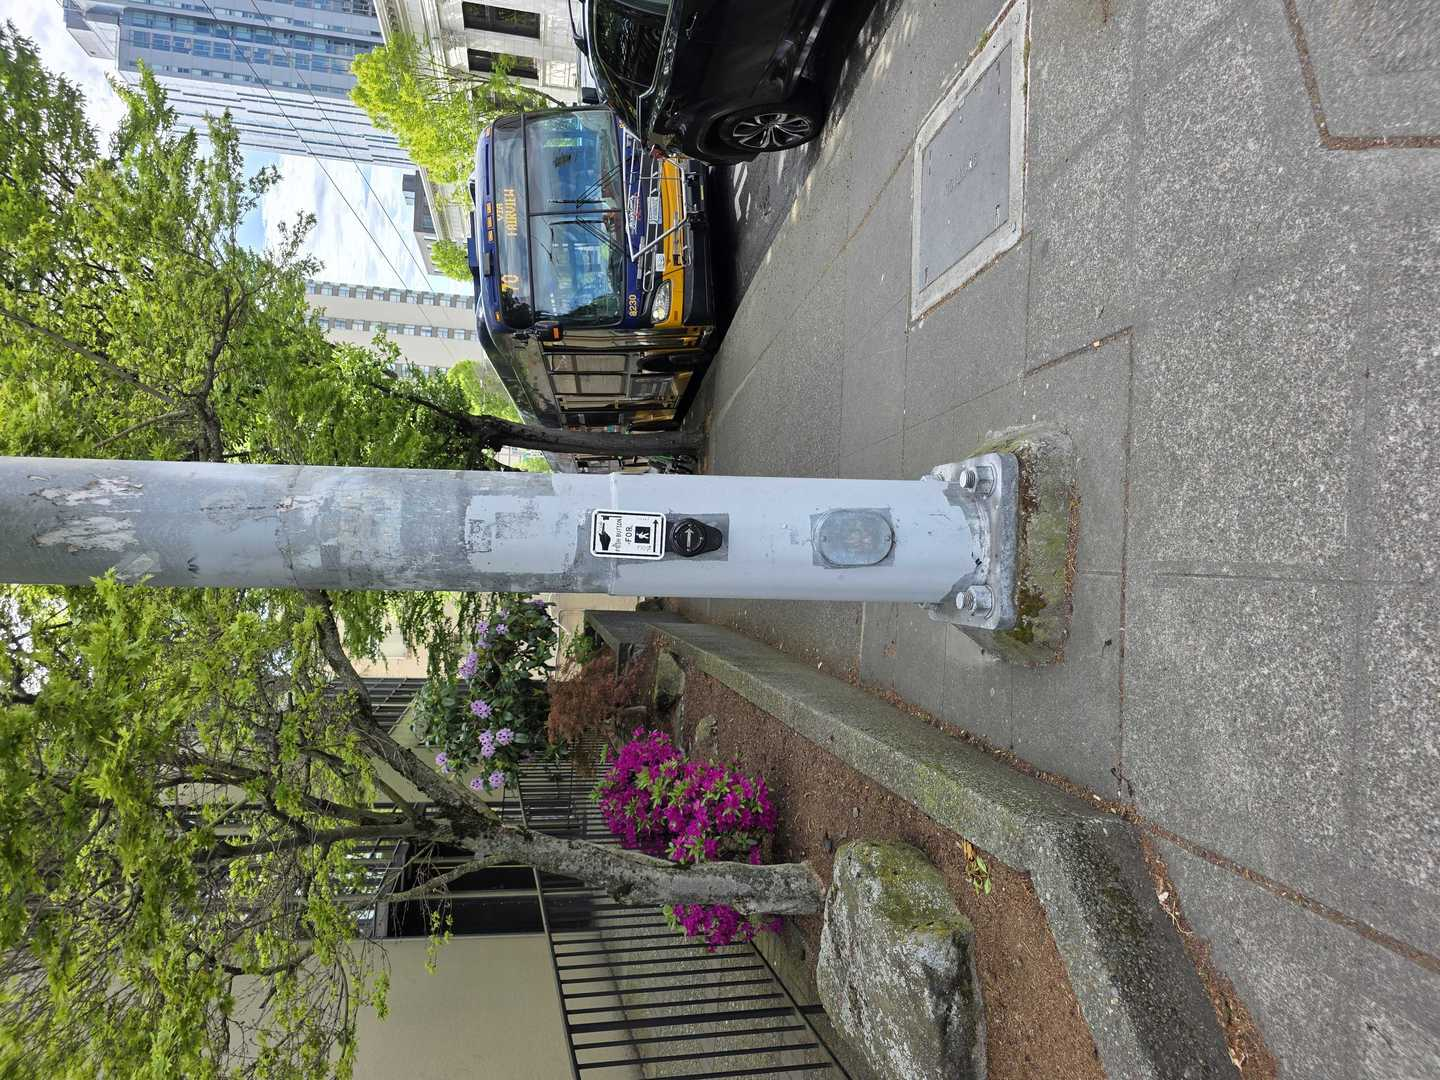ped_button: (590, 514, 731, 562)
